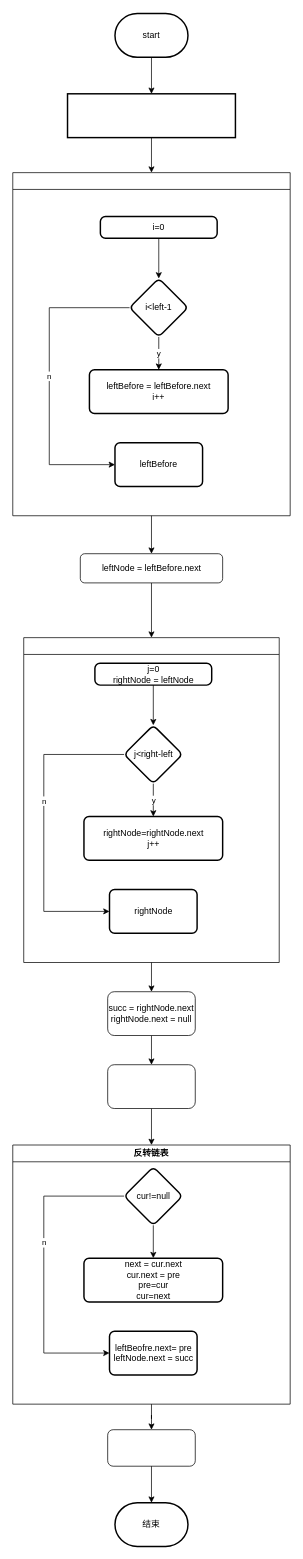
This 303x1559 diagram has some shape labels left out. Each missing label, with the centre of its shape:
"dummy = new ListNode(0) dummy.next=head leftBefore = dummy" goes at point (151, 115).
"pre=null cur=leftNode" goes at point (151, 1086).
"return dummy.next" goes at point (151, 1447).
"找到left前面的节点" goes at point (151, 344).
"找到right节点" goes at point (151, 800).
